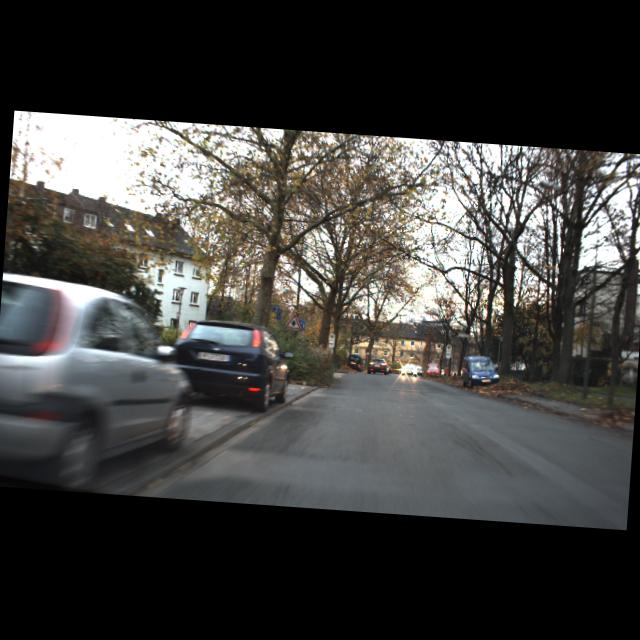danger: (285, 312, 303, 330)
